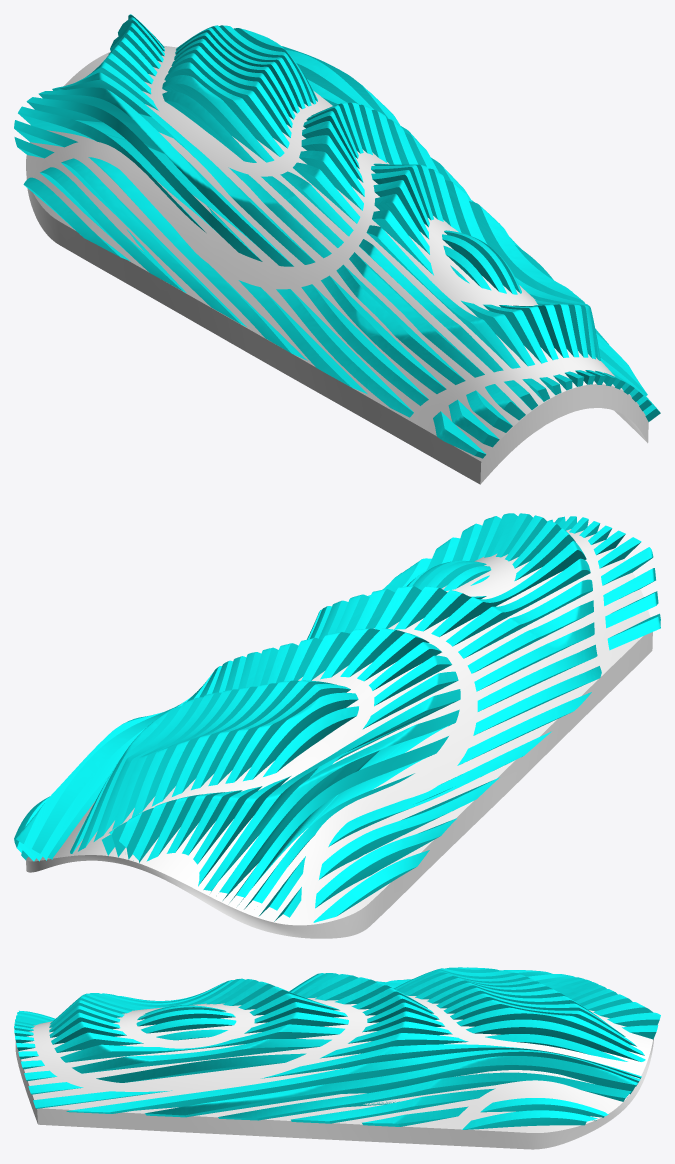
Rendered from obscura-strata-coffin-web.glb.
3 views of the same model, one above another, from view 1: azimuth 30°, elevation 25°; view 2: azimuth 150°, elevation 25°; view 3: azimuth 270°, elevation 25° (orthographic). The views are drawn at different scales.
Bounding box in the file's own units: 0.0149 × 0.00714 × 0.0355.
